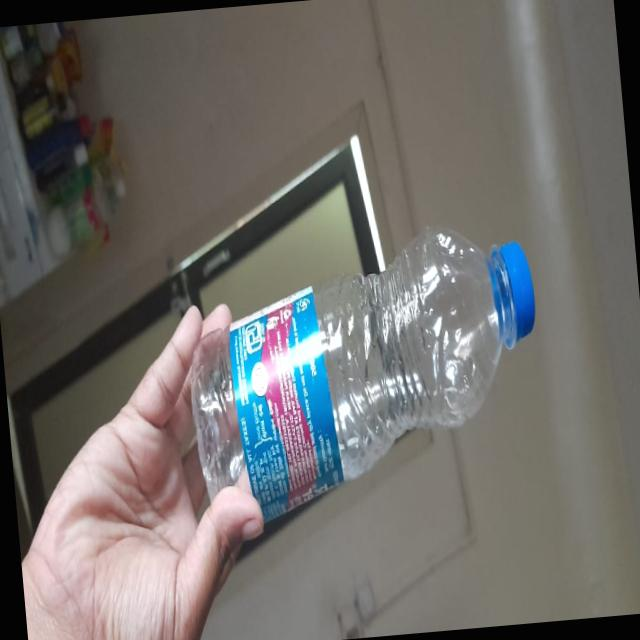Plastic - Recyclable: (177, 214, 552, 536)
